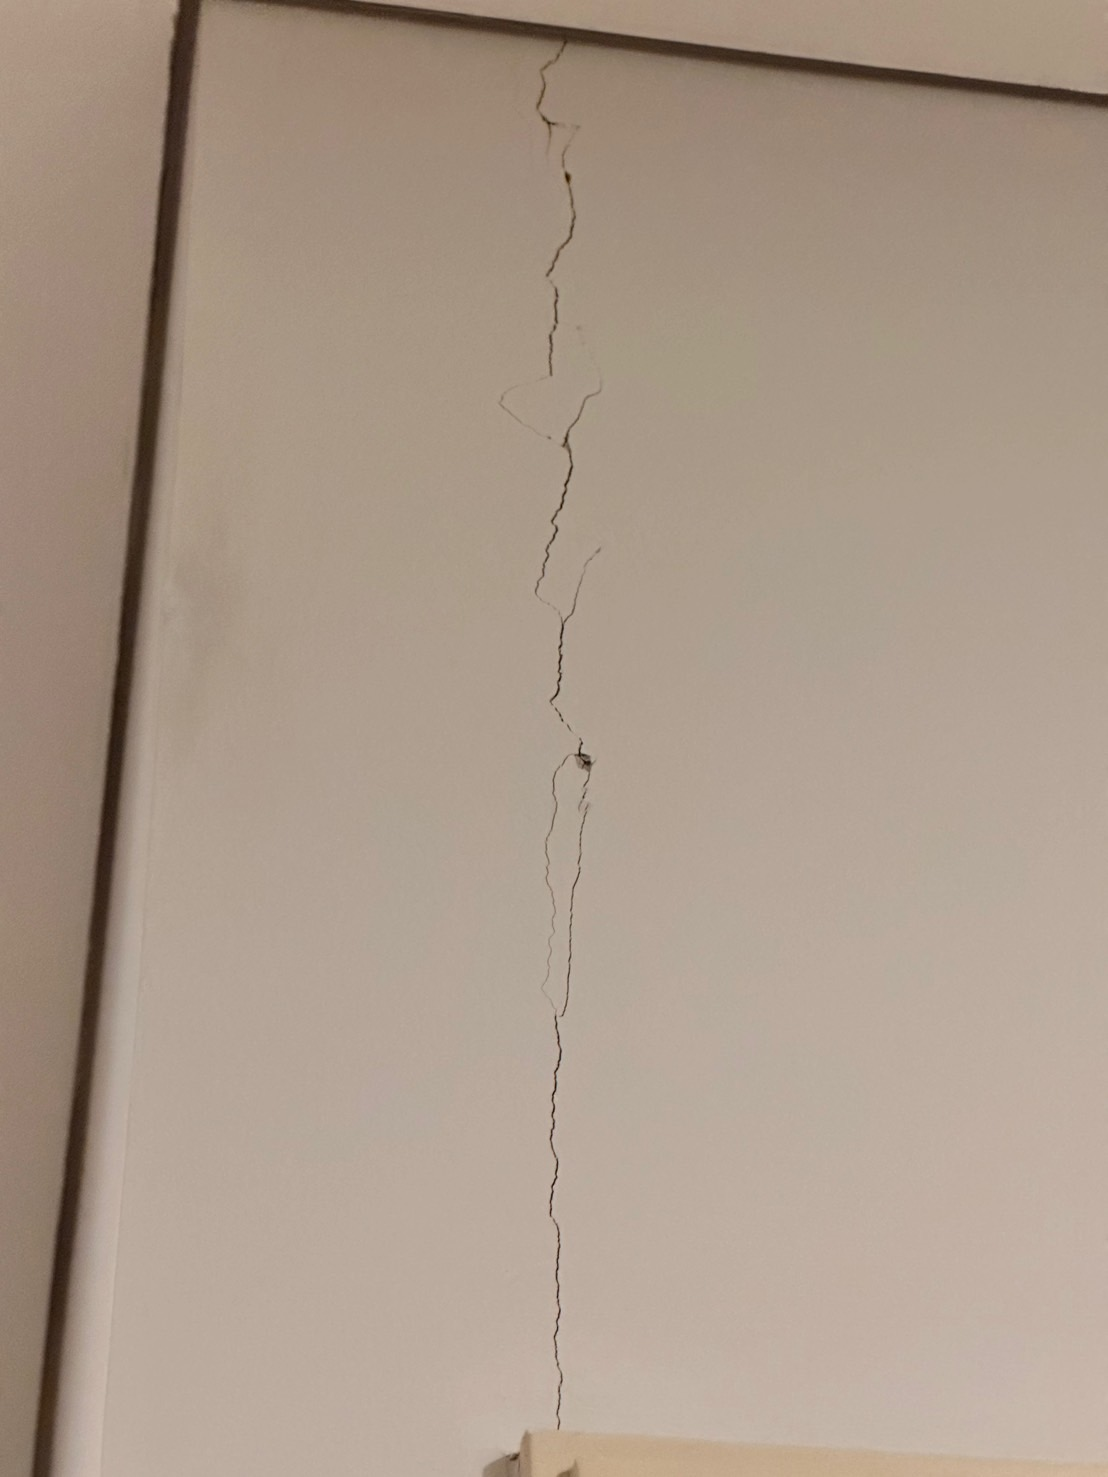Low: (481, 28, 656, 1446)
